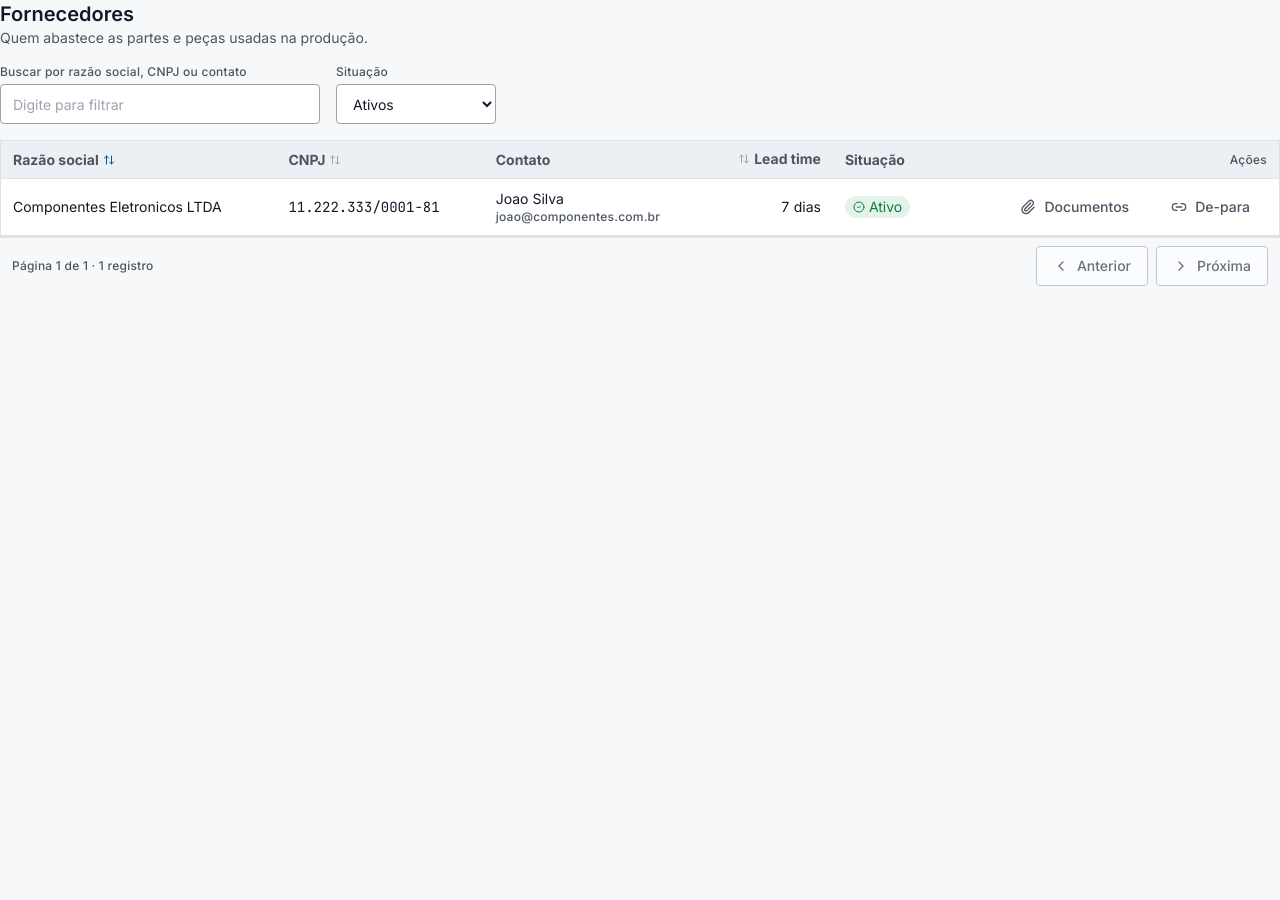
Test: Fornecedores › quem so visualiza fornecedores abre os documentos em consulta
Click the button with aria-label "Documentos de Componentes Eletronicos LTDA". click: {"x": 1075, "y": 207}
box: [1003,187,1146,227]
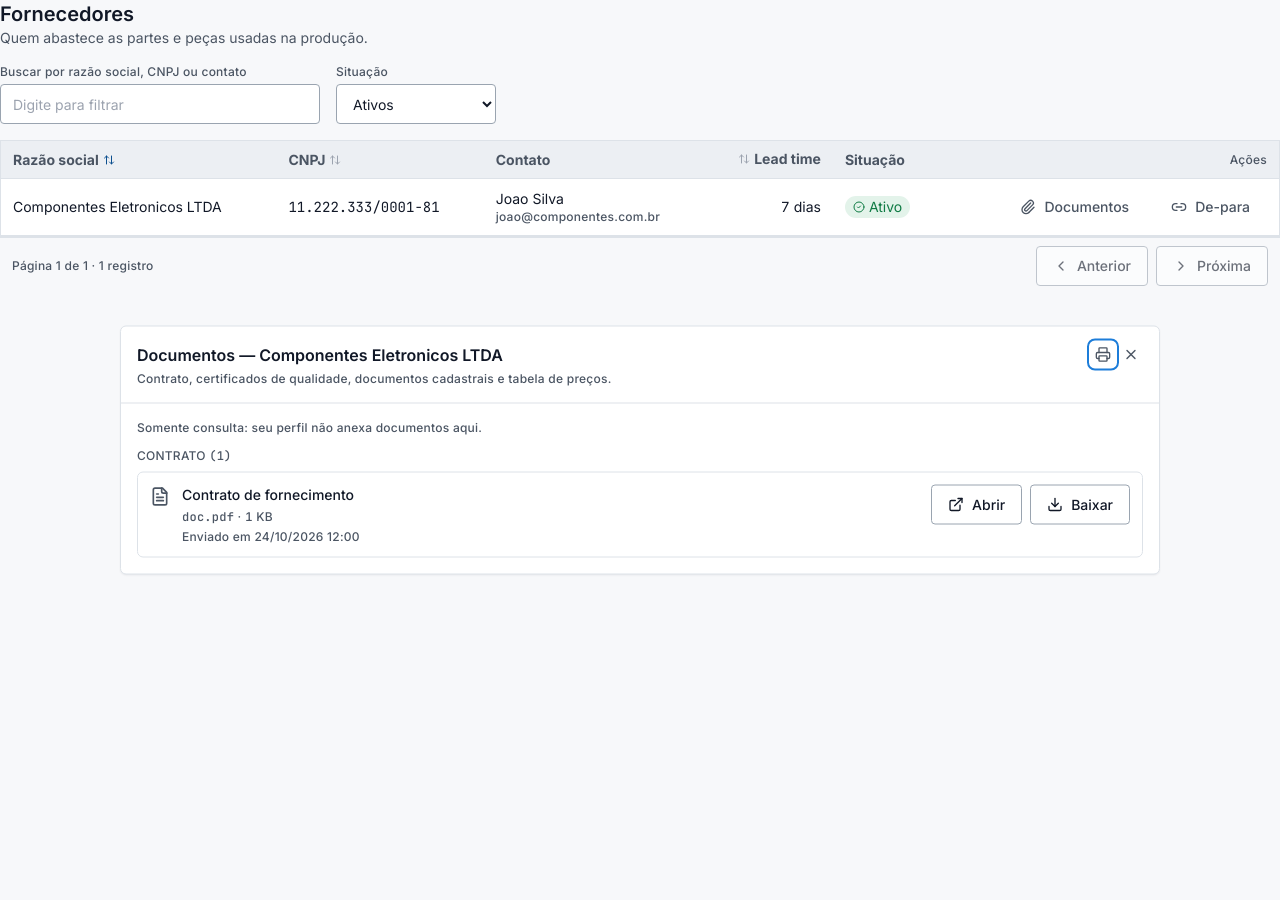
Now the text "Contrato de fornecimento" is shown, box [182,484,360,504]
